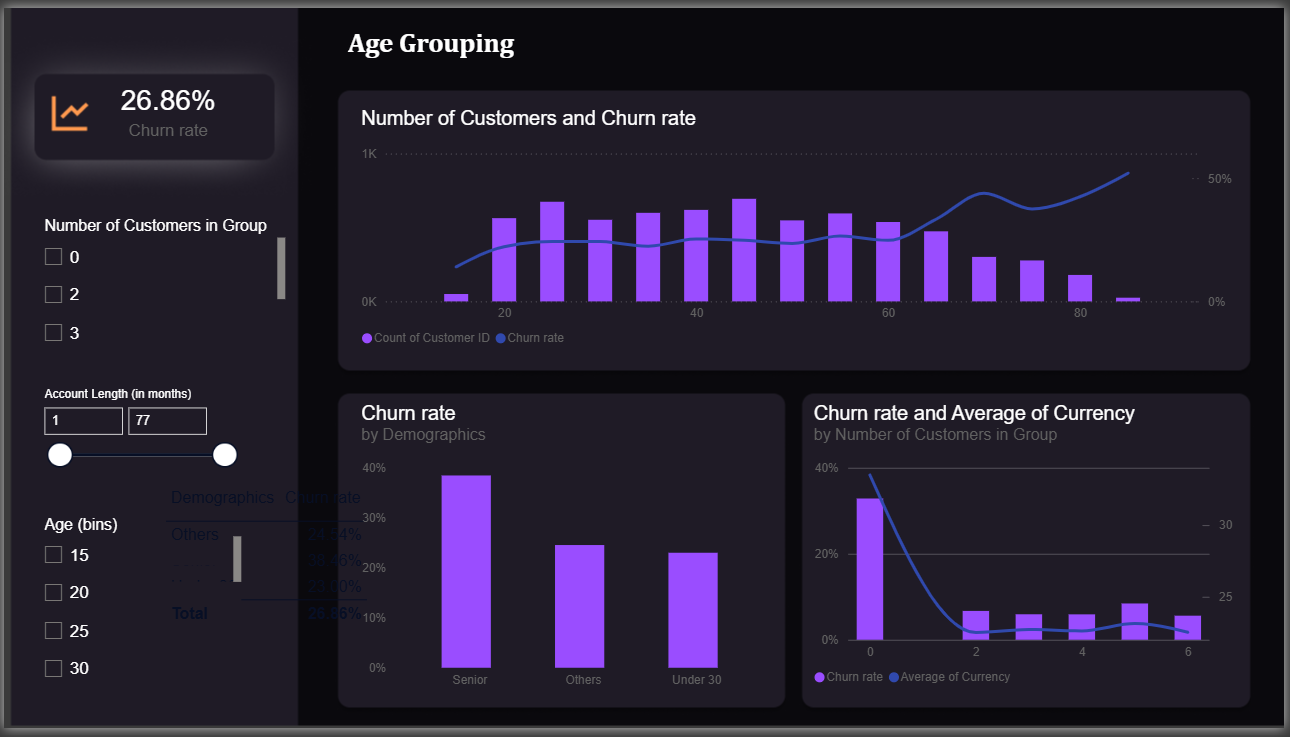

What the dashboard file says about the page in this screenshot:
{"tool":"powerbi","page":{"name":"Ages Grouping","canvas":[1280,720],"ordinal":2},"visuals":[{"type":"tableEx","fields":{"Values":["Databel - Data.Demographics","Databel - Data.Churn rate"]},"box":[145,462.5,316.2,257.5],"z":0},{"type":"columnChart","fields":{"Category":["Databel - Data.Demographics"],"Y":["Databel - Data.Churn rate"]},"box":[341.2,378.8,441.2,320],"z":1000},{"type":"lineStackedColumnComboChart","title":"Number of Customers and Churn rate","fields":{"Category":["Databel - Data.Age (bins)"],"Y":["CountNonNull(Databel - Data.Customer ID)"],"Y2":["Databel - Data.Churn rate"]},"box":[341.2,83.8,903.8,276.2],"z":2000},{"type":"lineClusteredColumnComboChart","fields":{"Category":["Databel - Data.Number of Customers in Group"],"Y":["Databel - Data.Churn rate"],"Y2":["Avg(Databel - Data.Currency)"]},"box":[793.8,378.8,451.2,320],"z":3000},{"type":"slicer","fields":{"Values":["Databel - Data.Number of Customers in Group"]},"box":[32.5,208.8,248.8,140],"z":4000},{"type":"slicer","fields":{"Values":["Databel - Data.Account Length (in months)"]},"box":[32.5,378.8,204.4,112.2],"z":5000},{"type":"card","fields":{"Values":["Databel - Data.Churn rate"]},"box":[47.5,41.2,233.5,121],"z":6000},{"type":"slicer","fields":{"Values":["Databel - Data.Age (bins)"]},"box":[32.5,507.5,205,182.5],"z":7000},{"type":"textbox","box":[343.8,18.8,295.6,44.6],"z":8000}]}

Visuals, with their boxes in screenshot pixels (x1, y1, x2, y2), scaled from the page's 1280x720 canvas onto the 1290x737 screenshot:
tableEx - Databel - Data.Demographics x Databel - Data.Churn rate: 146:473:465:736
columnChart - Databel - Data.Demographics x Databel - Data.Churn rate: 344:388:789:715
"Number of Customers and Churn rate" lineStackedColumnComboChart: 344:86:1255:368
lineClusteredColumnComboChart - Databel - Data.Number of Customers in Group x Databel - Data.Churn rate: 800:388:1255:715
slicer - Databel - Data.Number of Customers in Group: 33:214:283:357
slicer - Databel - Data.Account Length (in months): 33:388:239:503
card - Databel - Data.Churn rate: 48:42:283:166
slicer - Databel - Data.Age (bins): 33:519:239:706
textbox: 346:19:644:65
